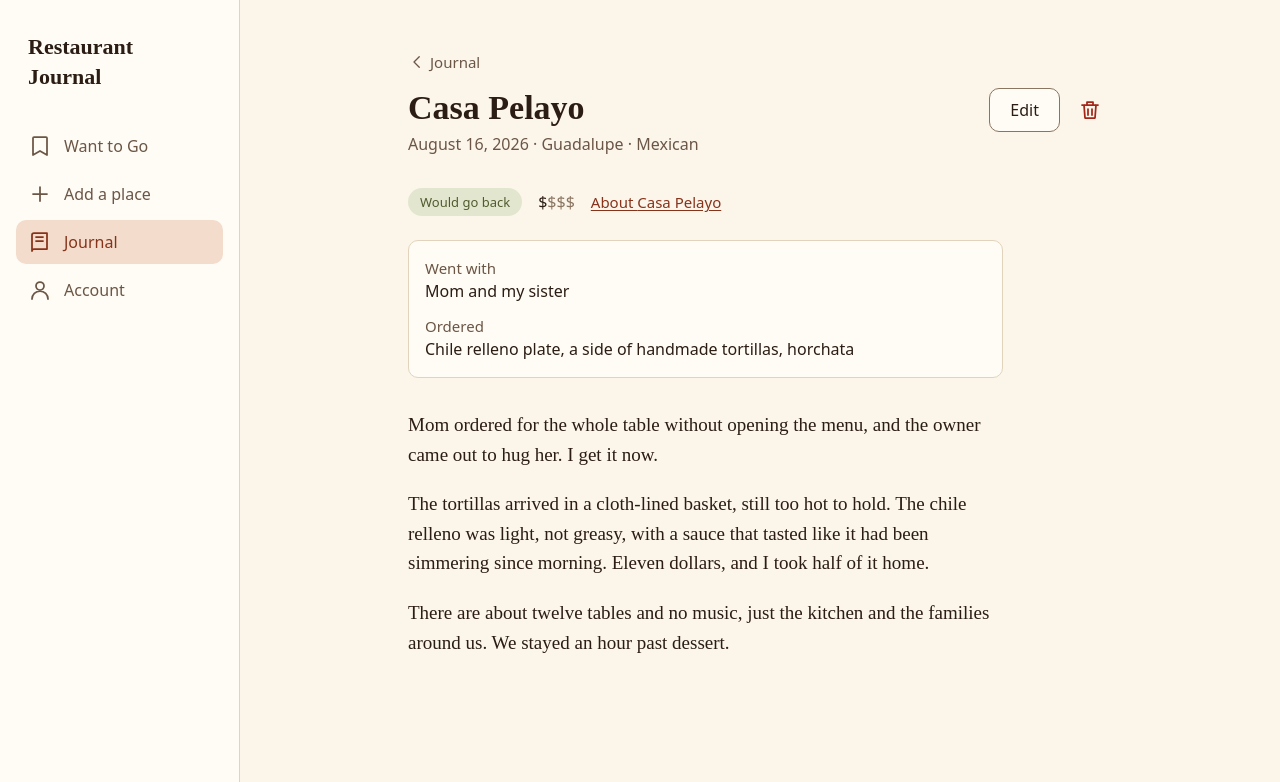
Test: Delete entry › deleting one of several entries keeps the place visited
The width and height of the screenshot is (1280, 782).
Click the button named "Delete entry for Casa Pelayo".
click(1090, 110)  # box [1068,88,1112,132]
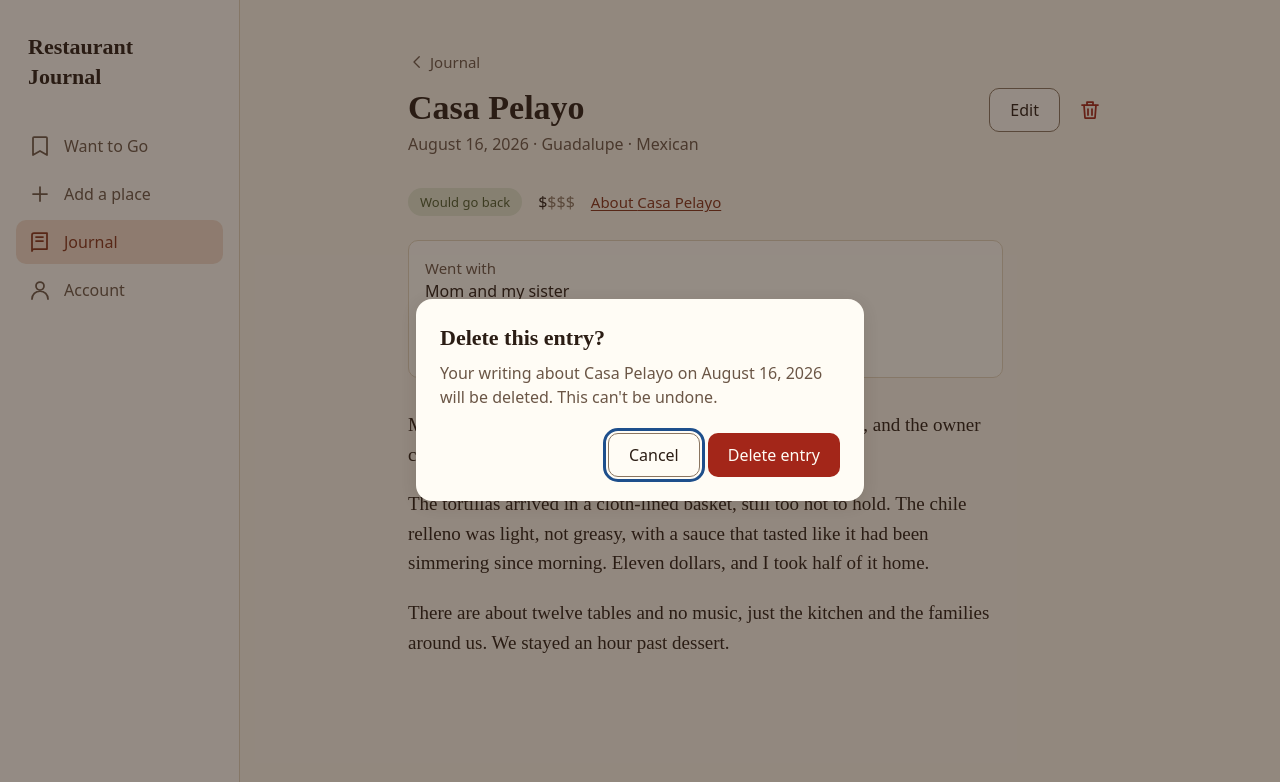
Expected: the text "will be deleted. This can't be undone." does not show "Want to Go", [440,361,840,409]
Click the button "Delete entry".
click(774, 455)  # box [708,433,840,477]
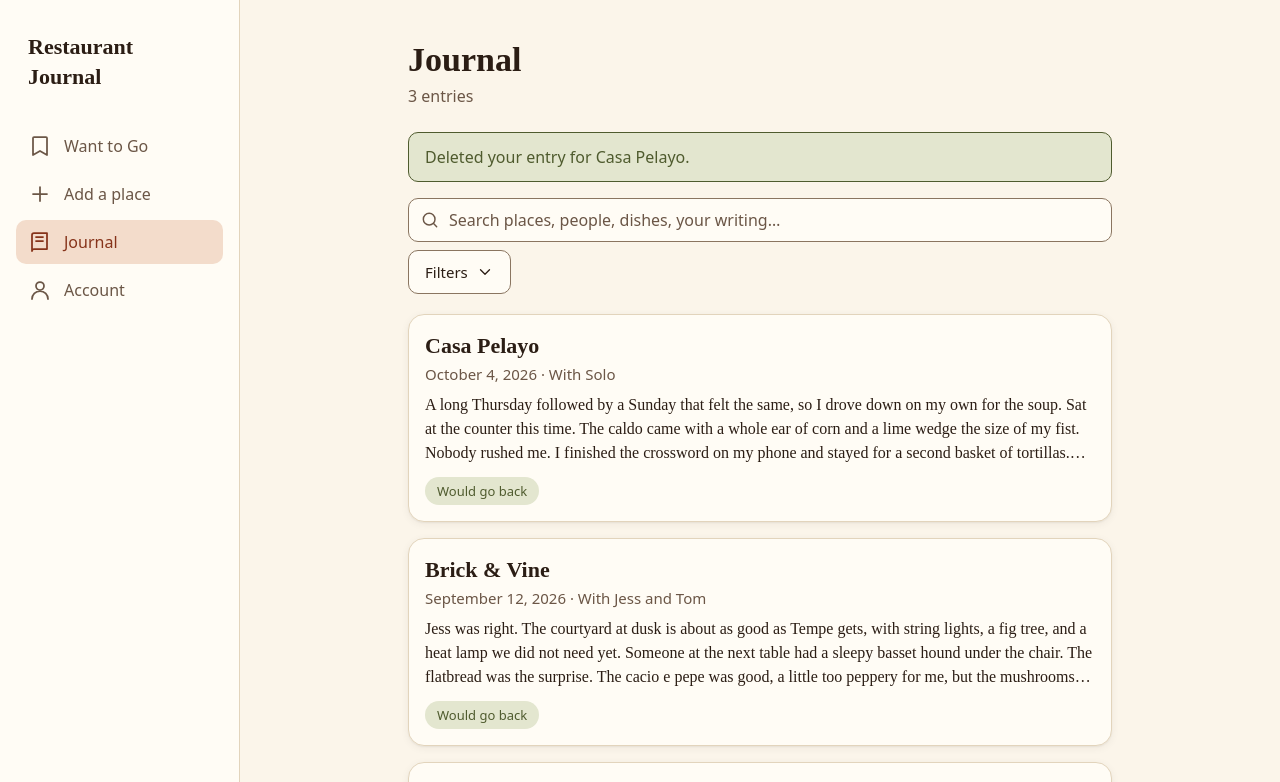
Expected: the text "3 entries" is shown, [408,85,473,107]
